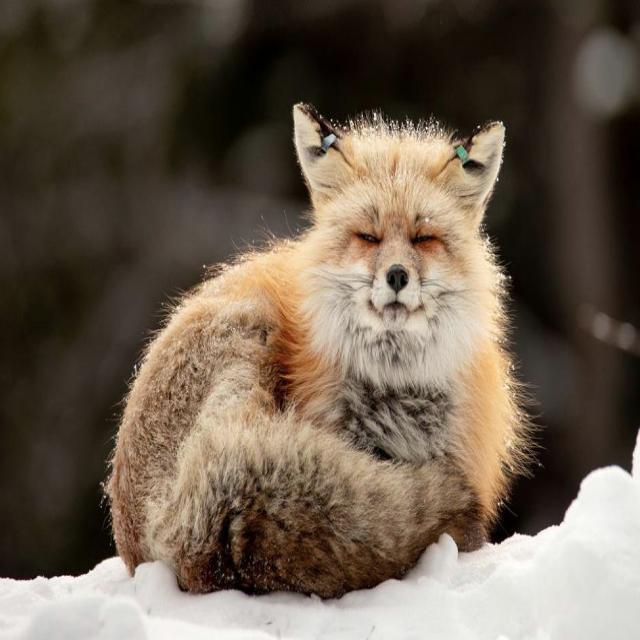fox: (106, 104, 531, 597)
